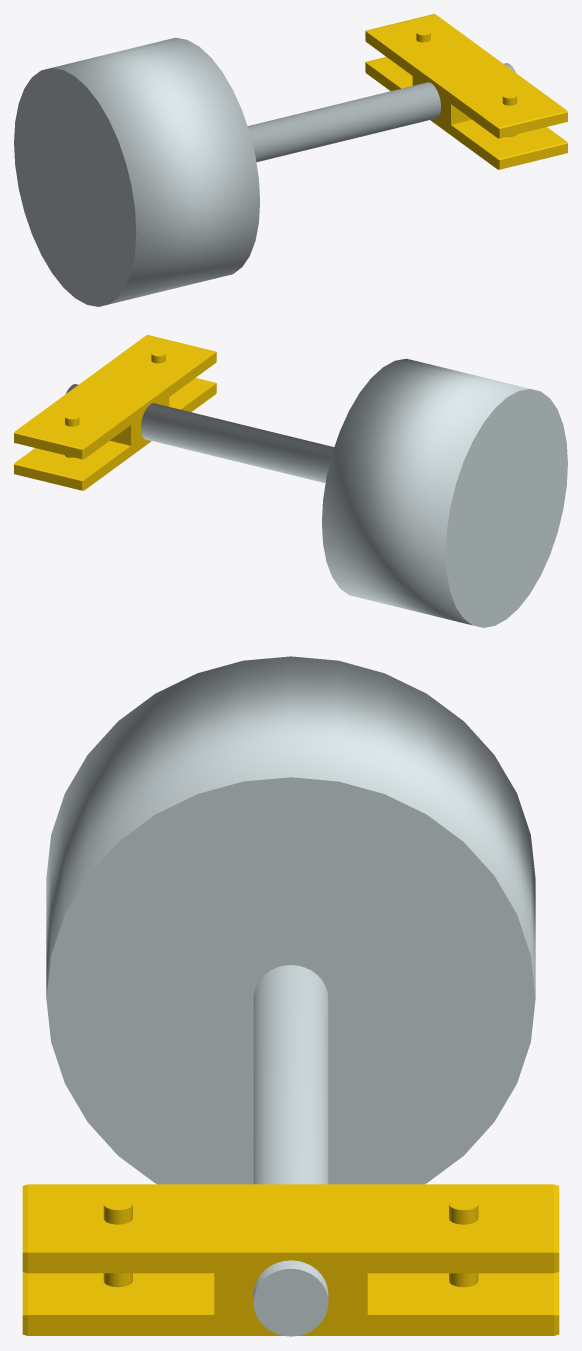
File: Piston1.glb
3 views of the same model, one above another, from view 1: azimuth 30°, elevation 25°; view 2: azimuth 150°, elevation 25°; view 3: azimuth 270°, elevation 25° (orthographic). The views are drawn at different scales.
Parts seen in each view (by area): view 1: Cylinder.018, Block1; view 2: Cylinder.018, Block1; view 3: Cylinder.018, Block1, Cylinder.019, Cylinder.020.
Part boxes in pixels (x1,y1,x2,y2): Cylinder.018: [14, 37, 515, 306]; Block1: [365, 14, 567, 169]; Cylinder.018: [66, 358, 567, 627]; Block1: [14, 335, 216, 490]; Cylinder.018: [46, 656, 535, 1336]; Block1: [22, 1184, 559, 1335]; Cylinder.019: [449, 1198, 478, 1287]; Cylinder.020: [103, 1198, 132, 1287].
Size of the model in its own units: 2.62 by 1.27 by 1.4.
